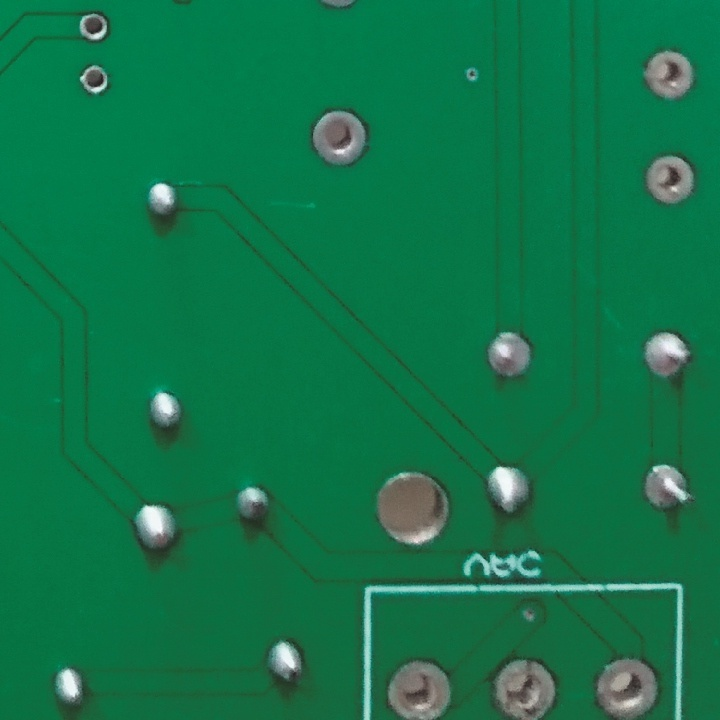F: (591, 651, 663, 720), (490, 655, 559, 720), (384, 658, 453, 720), (309, 107, 370, 172), (642, 45, 696, 106), (638, 328, 693, 385), (643, 149, 695, 209), (641, 460, 695, 515), (484, 330, 539, 383), (73, 6, 113, 50), (78, 63, 113, 102)
